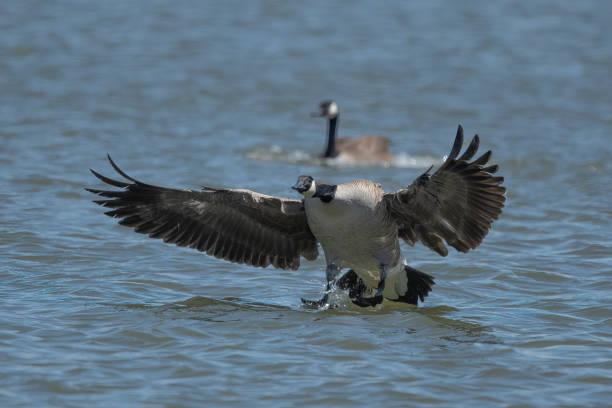Canadian-Goose: (87, 137, 508, 308), (307, 99, 394, 163)
